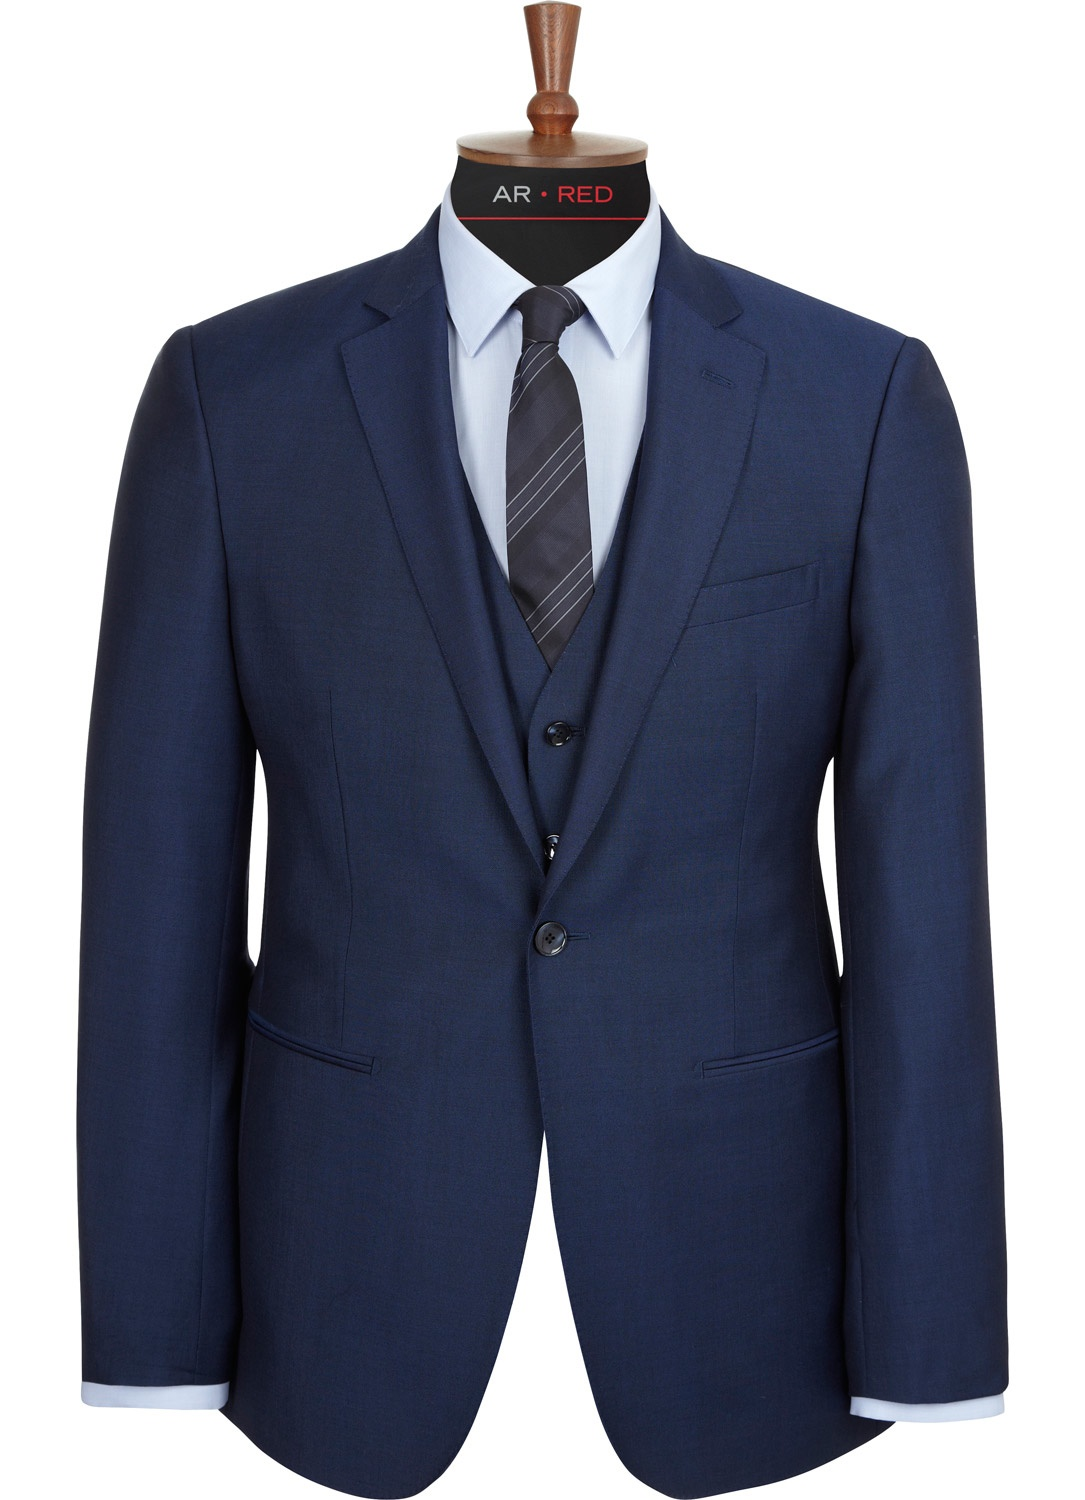F_M_suit jacket: (59, 250, 1015, 1444)
F_tie: (485, 282, 605, 632)
